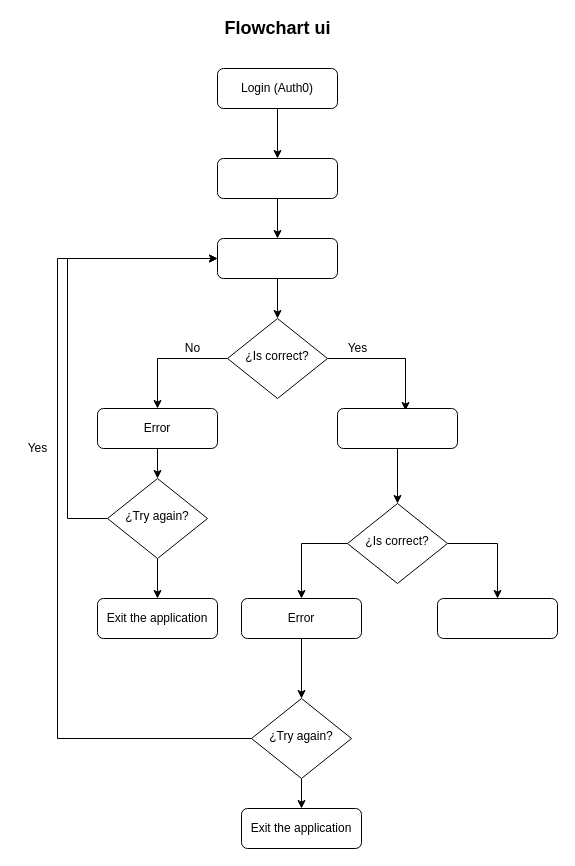
Image size: 575x866. Some labels were removed from this diagram. Each missing label, with the centre of its shape:
Can see the loaded images: the point at 497,618
Home: the point at 277,178
Load image: the point at 277,258
Uploaded to the server: the point at 397,428
